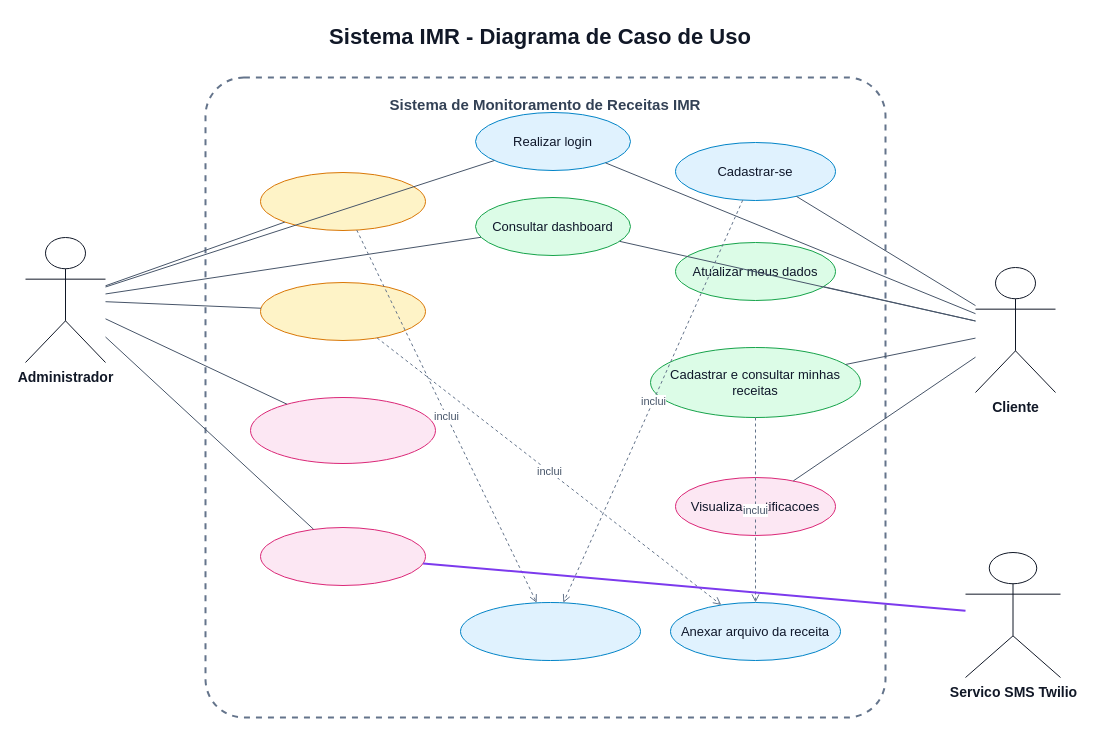
Some shapes in this 1094 by 735 pixel diagram are drawn without their labels. The shapes that lost their labels are listed below. From the top down, each one's centre as x and y in pixels, then its label:
At [343,201]: "Gerenciar clientes".
At [343,311]: "Gerenciar receitas".
At [343,430]: "Acompanhar notificacoes gerais".
At [343,556]: "Enviar SMS ao cliente".
At [550,631]: "Anexar documento do cliente".
